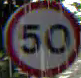Speed limit: (3, 0, 80, 77)
